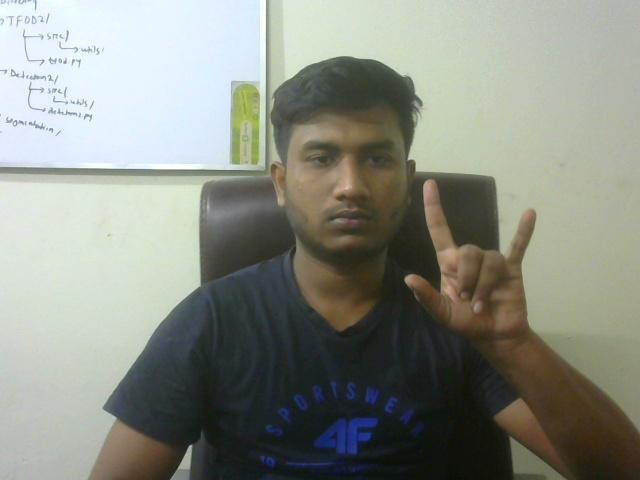IloveYou: (404, 171, 554, 344)
